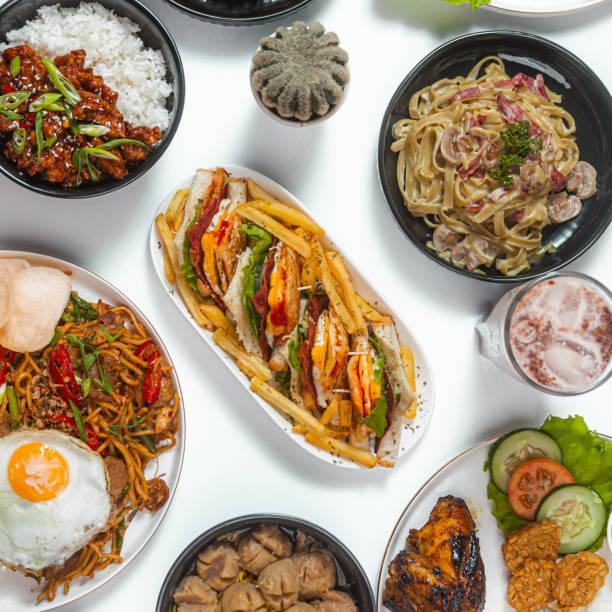Braised Crucian Carp: (147, 166, 426, 470), (0, 249, 184, 611), (378, 31, 607, 281), (379, 430, 612, 612), (1, 3, 182, 199)
